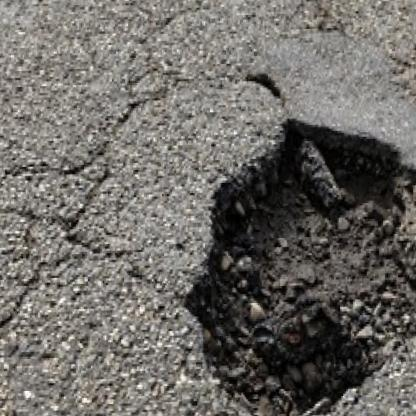pothole: (173, 112, 416, 416)
